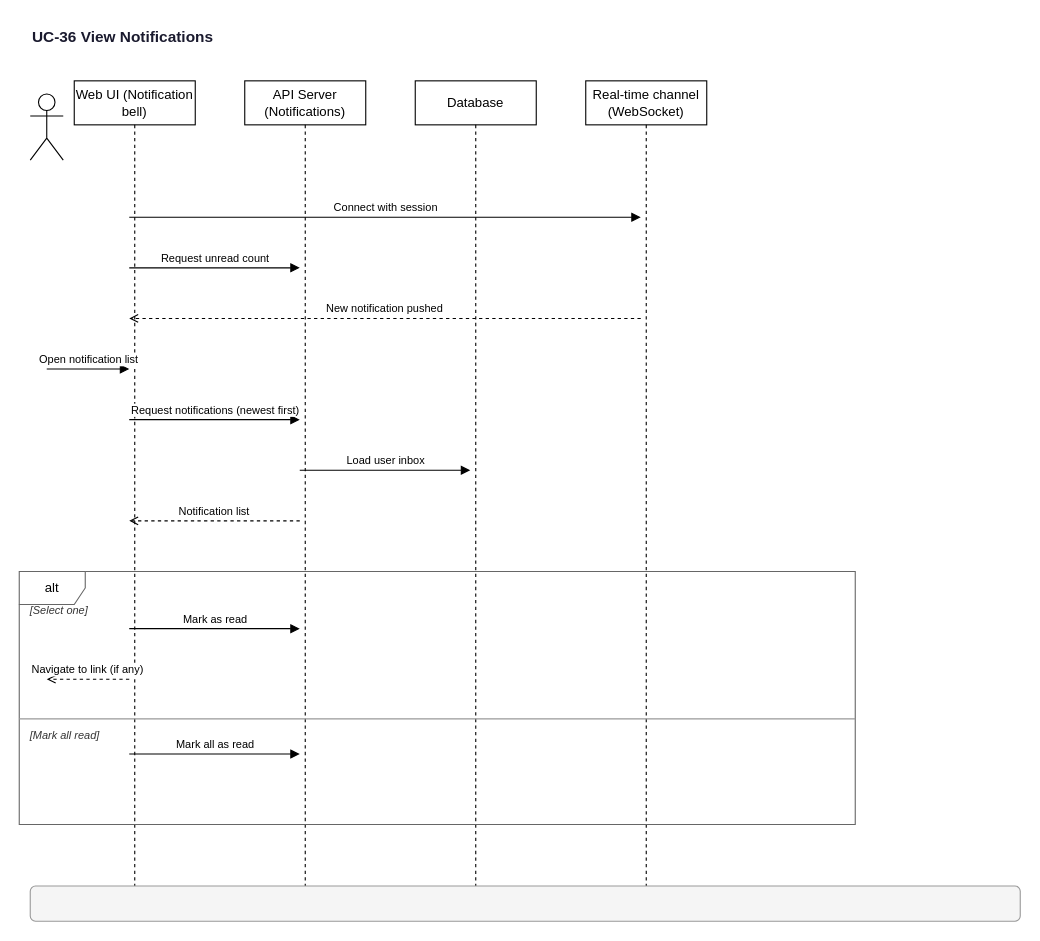
Image size: 1040x941. Some labels were removed from this diagram. Each missing label, with the centre of its shape:
"Cosmo Learn — UC-36 View Notifications" belongs at point 524,903.
"Student" belongs at point 46,126.
